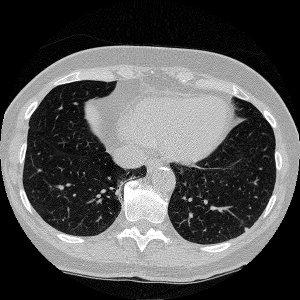nodule: (243, 226, 249, 232)
